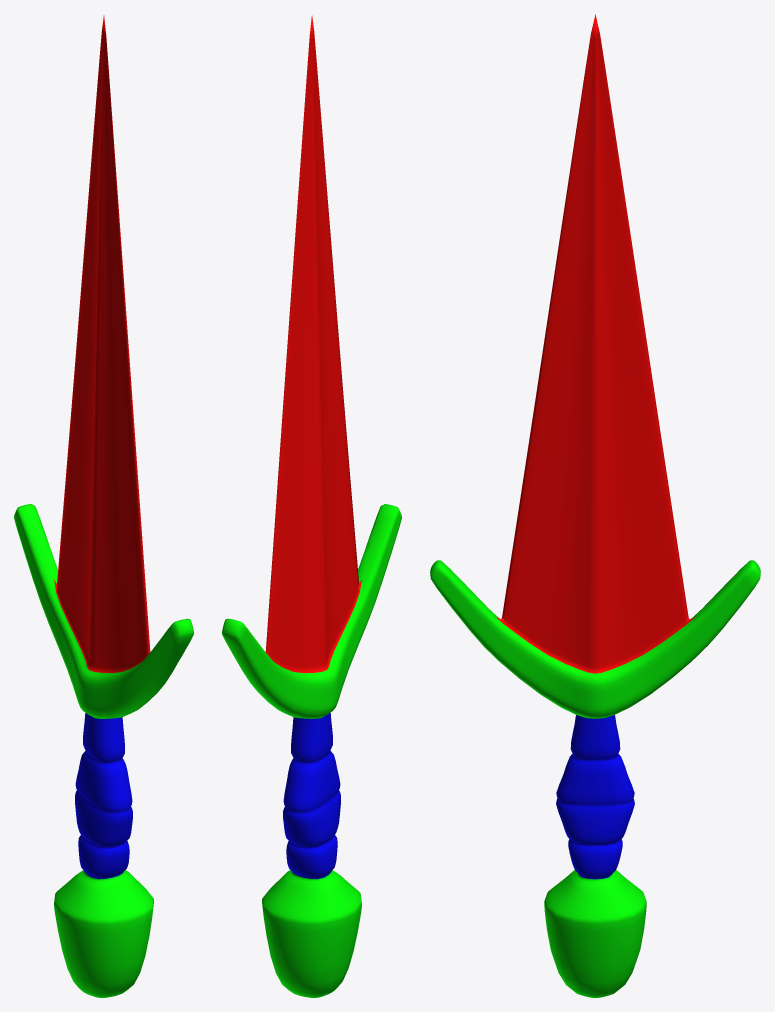
The model's file is SM_Medieval_Weapons_Cinquedea.fbx.
3 renders of one model, left to right at view 1: azimuth 30°, elevation 25°; view 2: azimuth 150°, elevation 25°; view 3: azimuth 270°, elevation 25°, orthographic.
Visible parts, largest first — view 1: SM_Medieval_Weapons_Cinquedea; view 2: SM_Medieval_Weapons_Cinquedea; view 3: SM_Medieval_Weapons_Cinquedea.
Part boxes in pixels (x1,y1,x2,y2): SM_Medieval_Weapons_Cinquedea: [14, 15, 193, 997]; SM_Medieval_Weapons_Cinquedea: [222, 15, 401, 997]; SM_Medieval_Weapons_Cinquedea: [430, 14, 760, 997].
Bounding box in the file's own units: 5.18 × 17.21 × 56.32.
